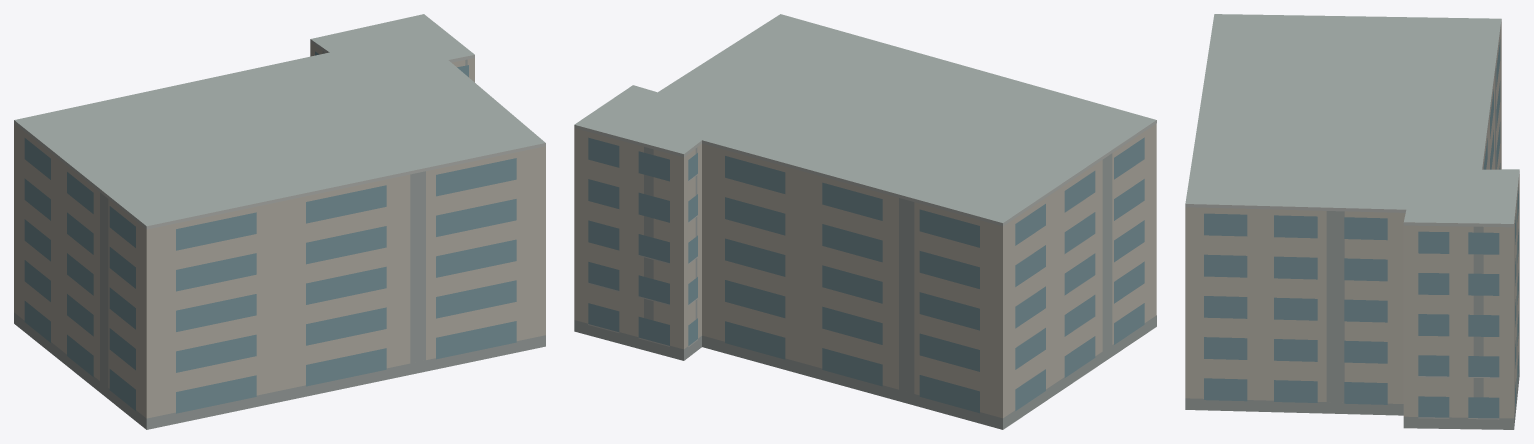
File: survey-upis-32876313.glb
The picture shows the model from 3 angles, left to right: view 1: azimuth 30°, elevation 25°; view 2: azimuth 150°, elevation 25°; view 3: azimuth 270°, elevation 25°; orthographic projection.
Visible parts, largest first — view 1: survey-upis-32876313.tmp; view 2: survey-upis-32876313.tmp; view 3: survey-upis-32876313.tmp.
Part boxes in pixels (x1,y1,x2,y2): survey-upis-32876313.tmp: [14, 14, 545, 429]; survey-upis-32876313.tmp: [574, 14, 1156, 429]; survey-upis-32876313.tmp: [1185, 14, 1519, 429].
Bounding box in the file's own units: 33.36 × 15.25 × 22.45.
